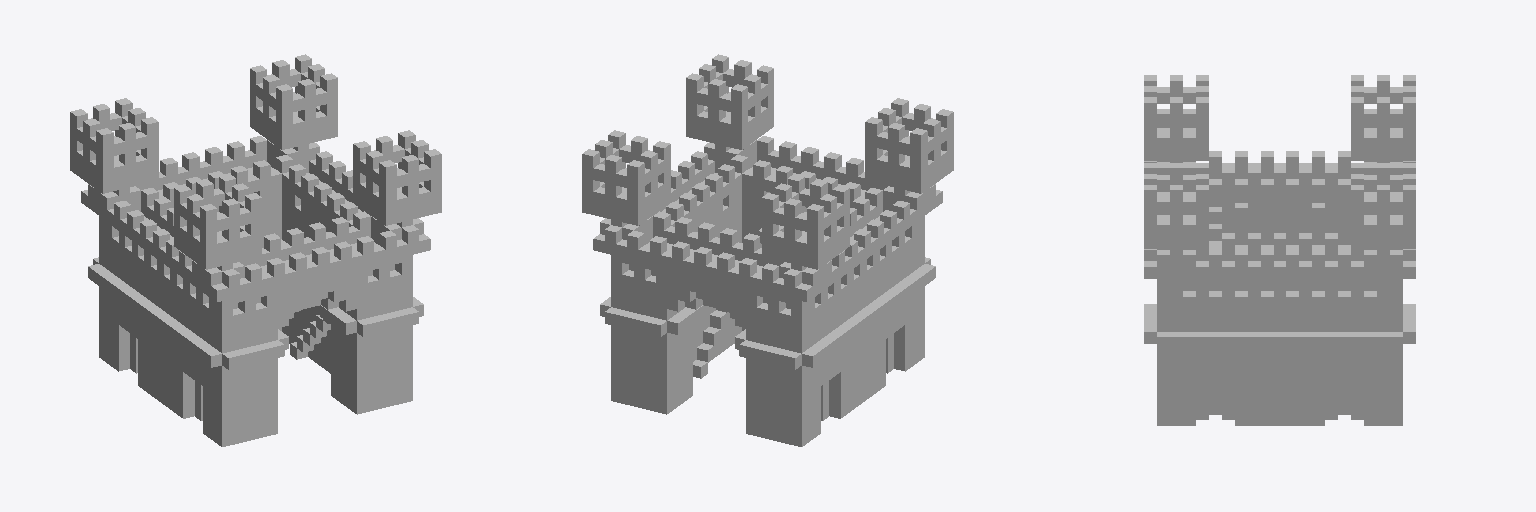
Rendered from castle.obj.
3 views of the same model, side by side, from view 1: azimuth 30°, elevation 25°; view 2: azimuth 150°, elevation 25°; view 3: azimuth 270°, elevation 25° (orthographic).
Parts seen in each view (by area): view 1: object 1; view 2: object 1; view 3: object 1.
Part boxes in pixels (x1,y1,x2,y2): object 1: (70,54,441,446); object 1: (582,54,953,446); object 1: (1144,75,1415,425).
Size of the model in its own units: 2.1 by 2.1 by 2.1.